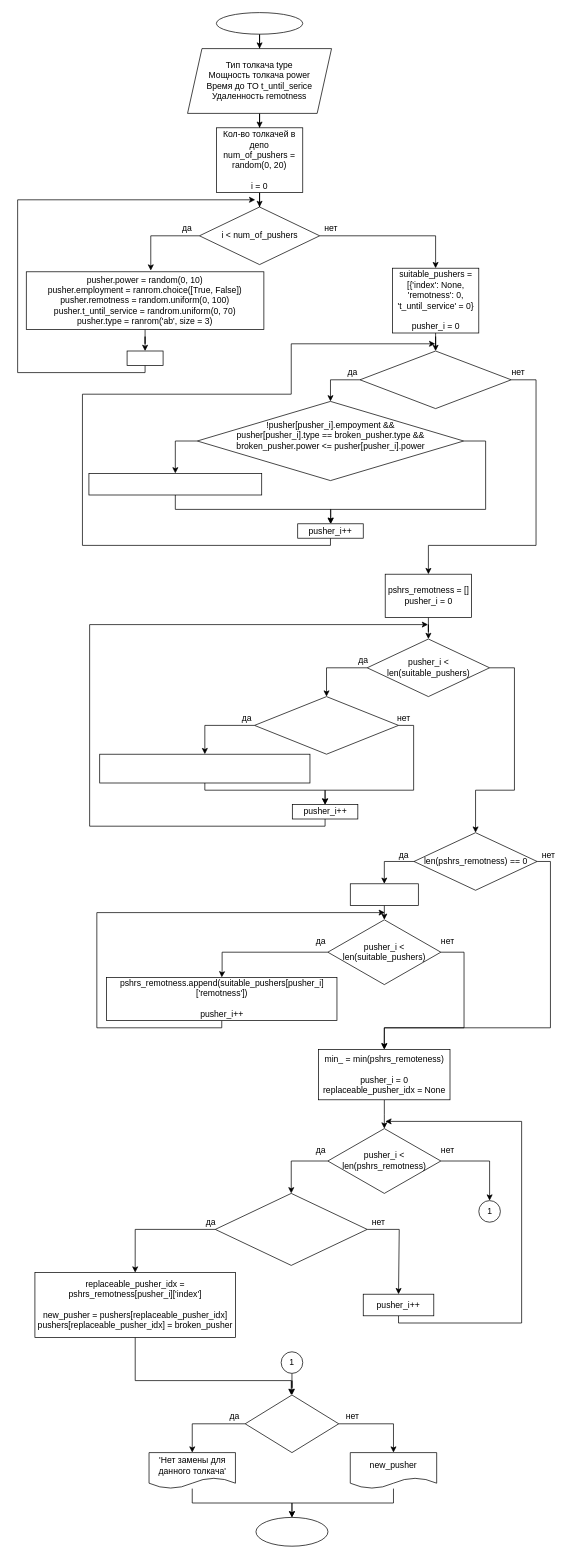
This 571x1559 diagram has some shape labels left out. Each missing label, with the centre of its shape:
i++: [144,357]
new_pusher == None: [291,1423]
pshrs_remotness.append(suitable_pushers[pusher_i]['remotness']): [204,768]
pshrs_remotness[pusher_i] == min_: [291,1229]
pusher_i = 0: [384,894]
pushers[pusher_i] > len(pushers): [435,379]
suitable_pushers.add(pusher[pusher_i]): [175,484]
suitable_pushers[pusher_i]['t_until_service'] < 70: [326,725]
Конец: [291,1531]
Начало: [259,23]
